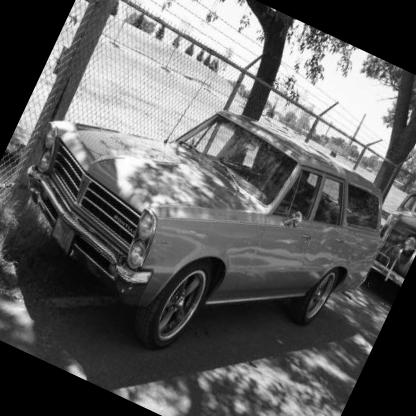car: (1, 5, 416, 411)
